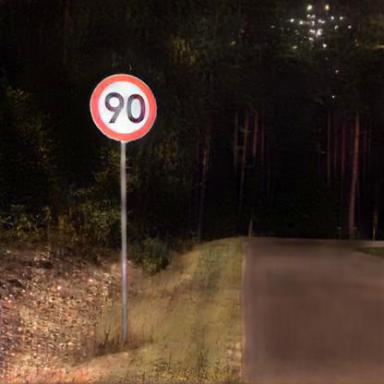Speed_limit_90: (91, 76, 155, 143)
